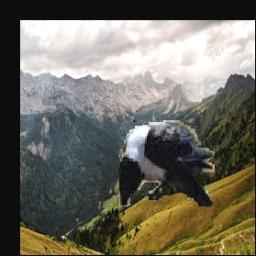Crow: (119, 120, 215, 206)
